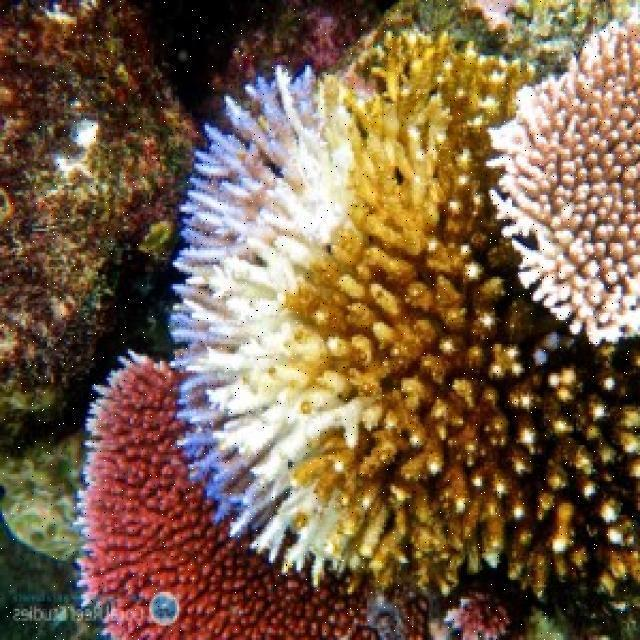Bleached: (175, 67, 358, 566), (488, 16, 640, 349)
Healthy: (360, 32, 487, 587), (488, 353, 640, 612), (84, 359, 170, 640), (176, 566, 360, 640)
